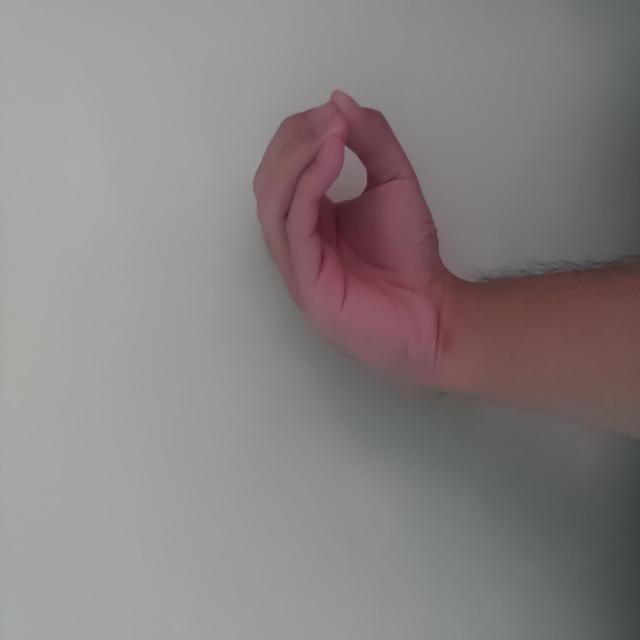O: (252, 251, 553, 446)
